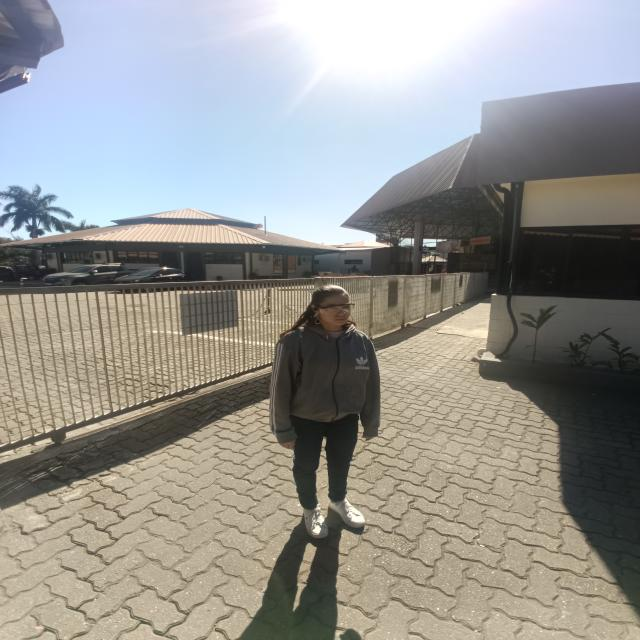oculos-epi: (317, 302, 356, 315)
